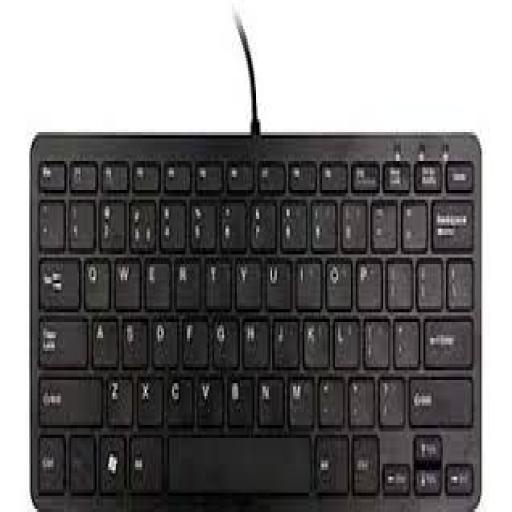keyboard: (29, 132, 481, 509)
